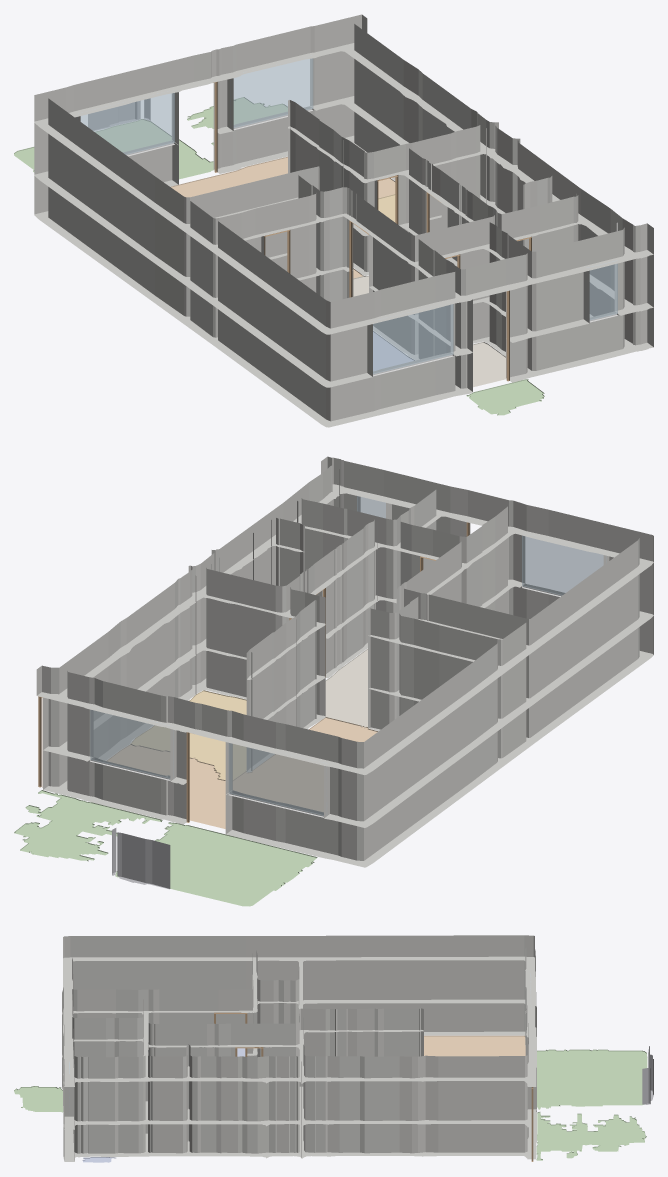
The picture shows the model from 3 angles, top to bottom: view 1: azimuth 30°, elevation 25°; view 2: azimuth 150°, elevation 25°; view 3: azimuth 270°, elevation 25°; orthographic projection. The views are drawn at different scales.
Visible parts, largest first — view 1: walls, window_12, window_9, window_10, floor_2_Outdoor, floor_4_Living_Room, floor_0_Outdoor, window_11, floor_1_Outdoor, floor_9_Entry, railings, floor_6_Bed_Room; view 2: walls, floor_2_Outdoor, floor_4_Living_Room, window_10, floor_1_Outdoor, window_9, window_12, floor_3_Kitchen, railings, floor_10_Entry; view 3: walls, floor_2_Outdoor, floor_1_Outdoor, floor_4_Living_Room, floor_0_Outdoor, railings.
Part boxes in pixels (left/top/right/bottom): walls: left=34, top=14, right=653, bottom=427; window_12: left=370, top=304, right=453, bottom=374; window_9: left=230, top=55, right=313, bottom=128; window_10: left=77, top=91, right=174, bottom=154; floor_2_Outdoor: left=14, top=119, right=214, bottom=179; floor_4_Living_Room: left=170, top=156, right=395, bottom=278; floor_0_Outdoor: left=466, top=379, right=544, bottom=415; window_11: left=587, top=260, right=617, bottom=320; floor_1_Outdoor: left=187, top=97, right=287, bottom=145; floor_9_Entry: left=473, top=342, right=506, bottom=387; railings: left=88, top=98, right=150, bottom=130; floor_6_Bed_Room: left=373, top=331, right=414, bottom=371; walls: left=36, top=456, right=653, bottom=867; floor_2_Outdoor: left=115, top=822, right=317, bottom=906; floor_4_Living_Room: left=107, top=717, right=378, bottom=828; window_10: left=228, top=743, right=326, bottom=815; floor_1_Outdoor: left=14, top=790, right=162, bottom=861; window_9: left=90, top=708, right=173, bottom=778; window_12: left=522, top=535, right=606, bottom=595; floor_3_Kitchen: left=131, top=690, right=246, bottom=780; railings: left=112, top=828, right=170, bottom=889; floor_10_Entry: left=325, top=648, right=367, bottom=727; walls: left=62, top=935, right=536, bottom=1161; floor_2_Outdoor: left=537, top=1049, right=647, bottom=1109; floor_1_Outdoor: left=536, top=1112, right=646, bottom=1160; floor_4_Living_Room: left=424, top=1035, right=525, bottom=1056; floor_0_Outdoor: left=14, top=1086, right=63, bottom=1112; railings: left=642, top=1046, right=653, bottom=1104.
Size of the model in its own units: 7.82 by 2.72 by 16.24.
